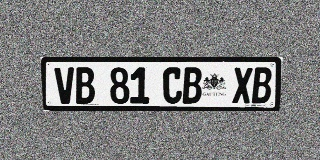1: (130, 67, 149, 104)
8: (110, 67, 129, 104)
B: (75, 67, 95, 104), (182, 67, 202, 104), (252, 67, 272, 103)
C: (163, 67, 182, 104)
V: (54, 67, 75, 104)
X: (232, 67, 253, 103)
